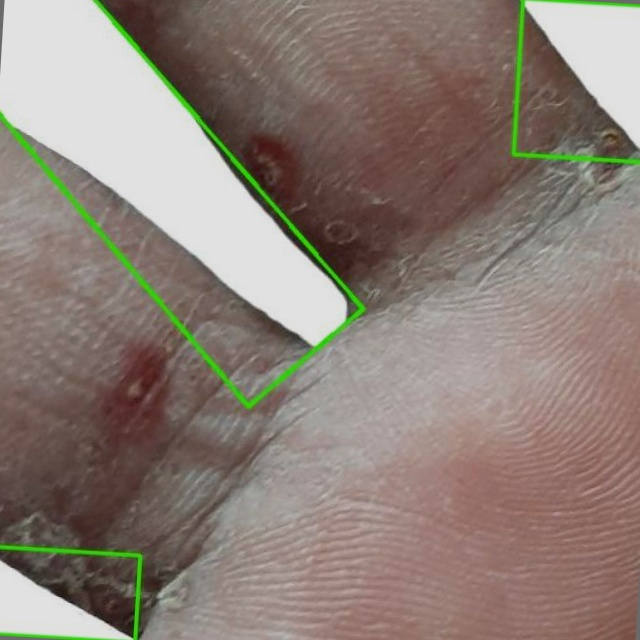Scabies: (0, 0, 363, 410), (513, 0, 639, 161), (0, 546, 140, 639)
